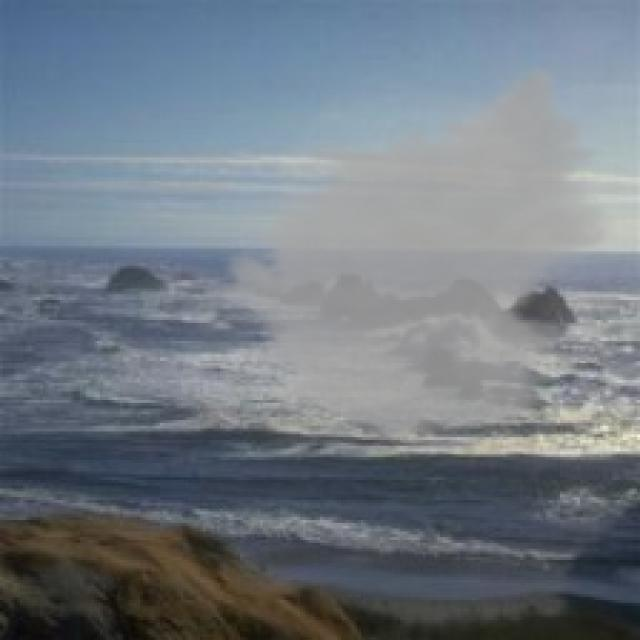smoke: (211, 63, 626, 443)
